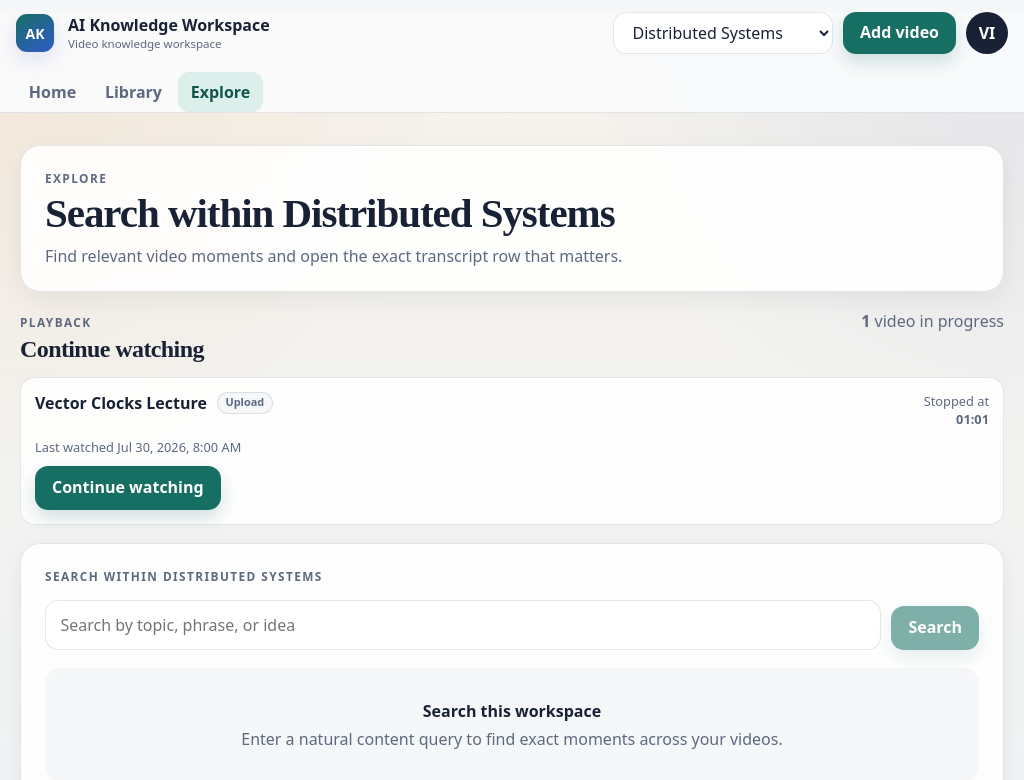
Test case: continue watching in Explore › shows the empty state without leaking another Workspace when switching
Check: the text "Vector Clocks Lecture" is shown, box x1=35 y1=392 x2=207 y2=414
Select "Operations" in the dropdown named "Workspace" at (723, 33), box x1=613 y1=12 x2=833 y2=54
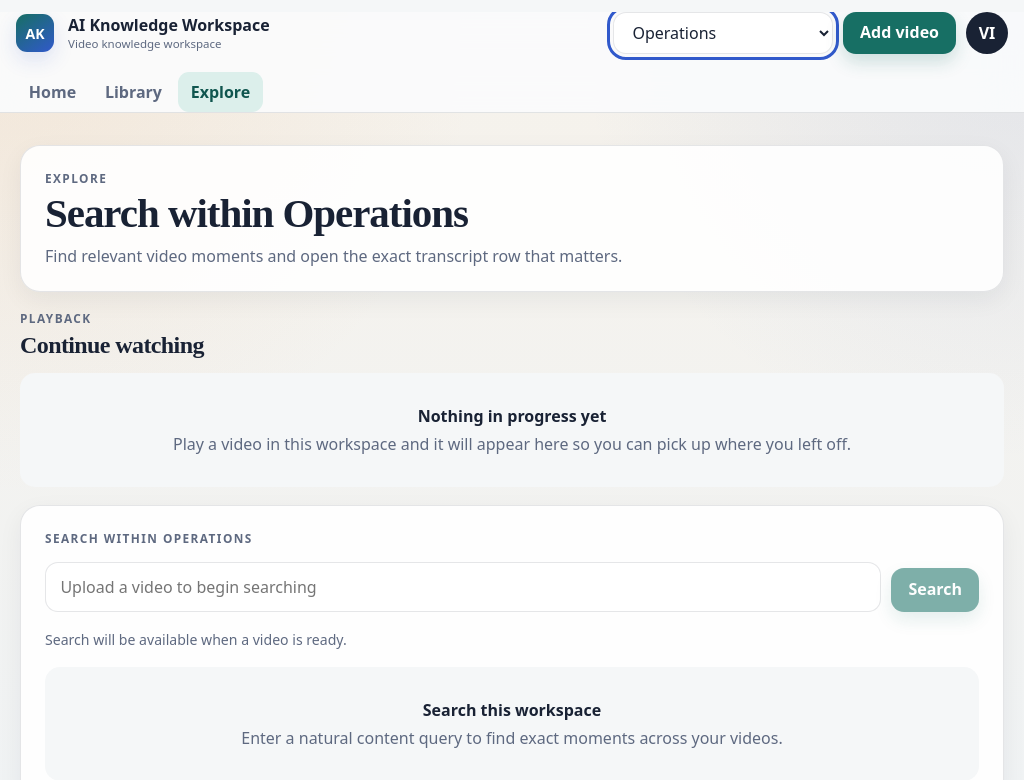
Check: the text "Vector Clocks Lecture" is gone
Check: the heading "Nothing in progress yet" is shown, box x1=418 y1=405 x2=606 y2=427
